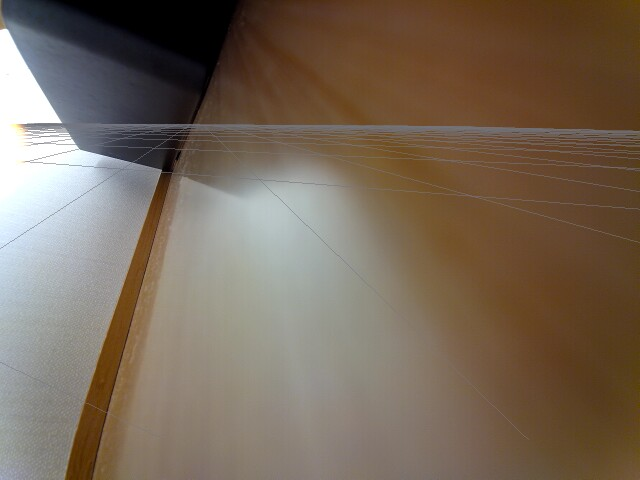firebig: (0, 104, 37, 198)
